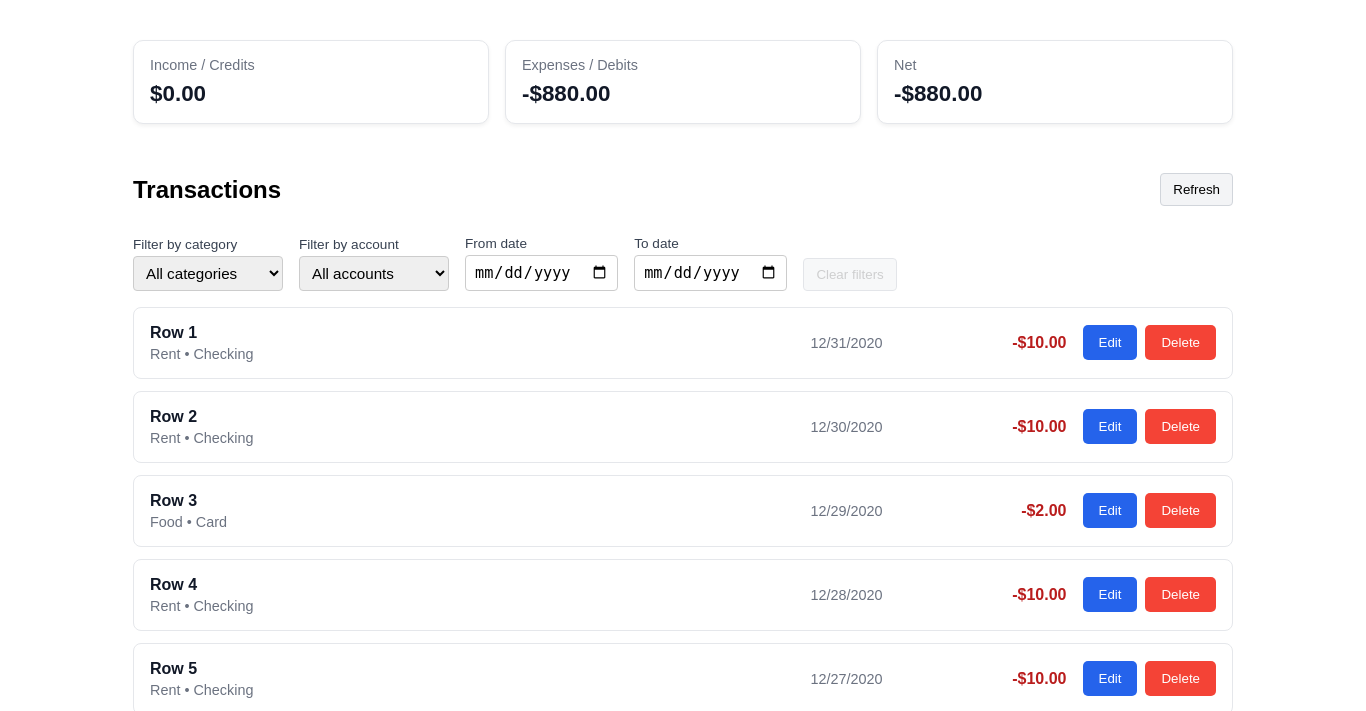
Test: filtering › combines a date range with the other filters, both ends included
Type "2020-12-22" into the date field labelled "From date". click: (542, 273)
box: [465, 255, 618, 291]
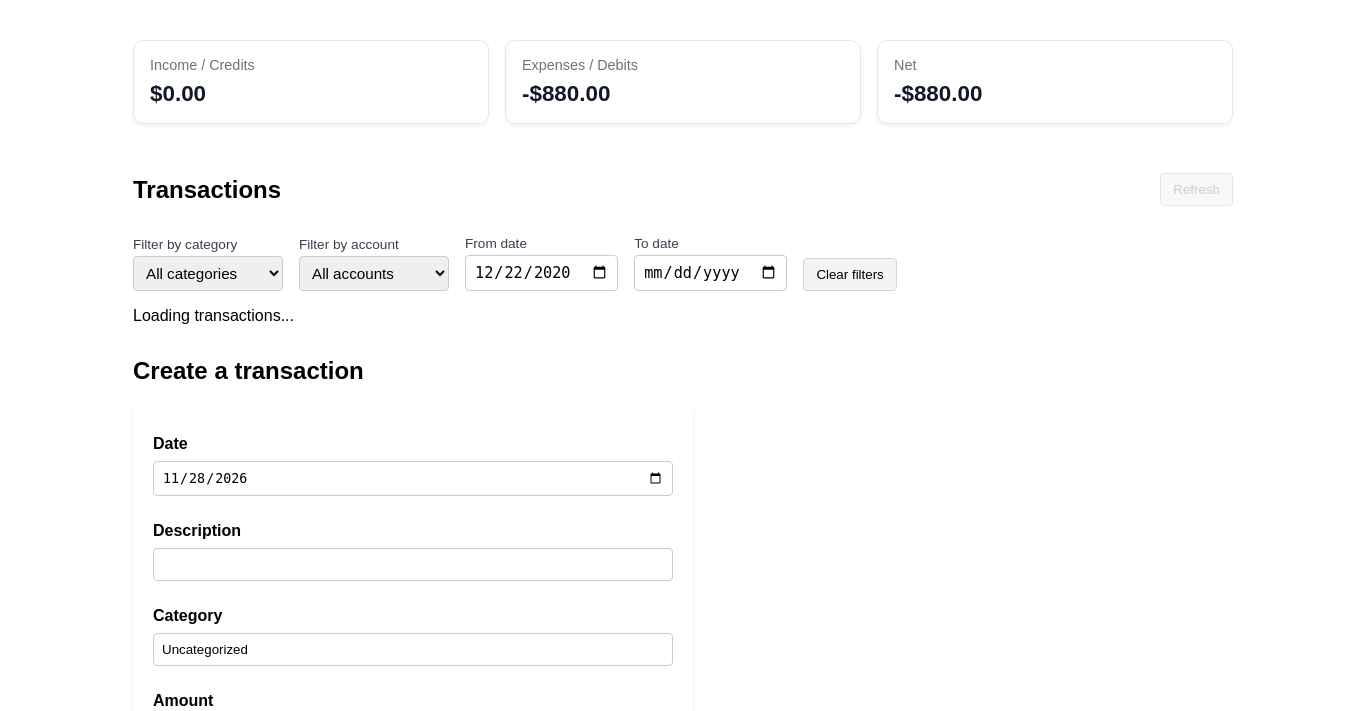
Type "2020-12-31" into the date field labelled "To date". click: (711, 273)
box: [634, 255, 787, 291]
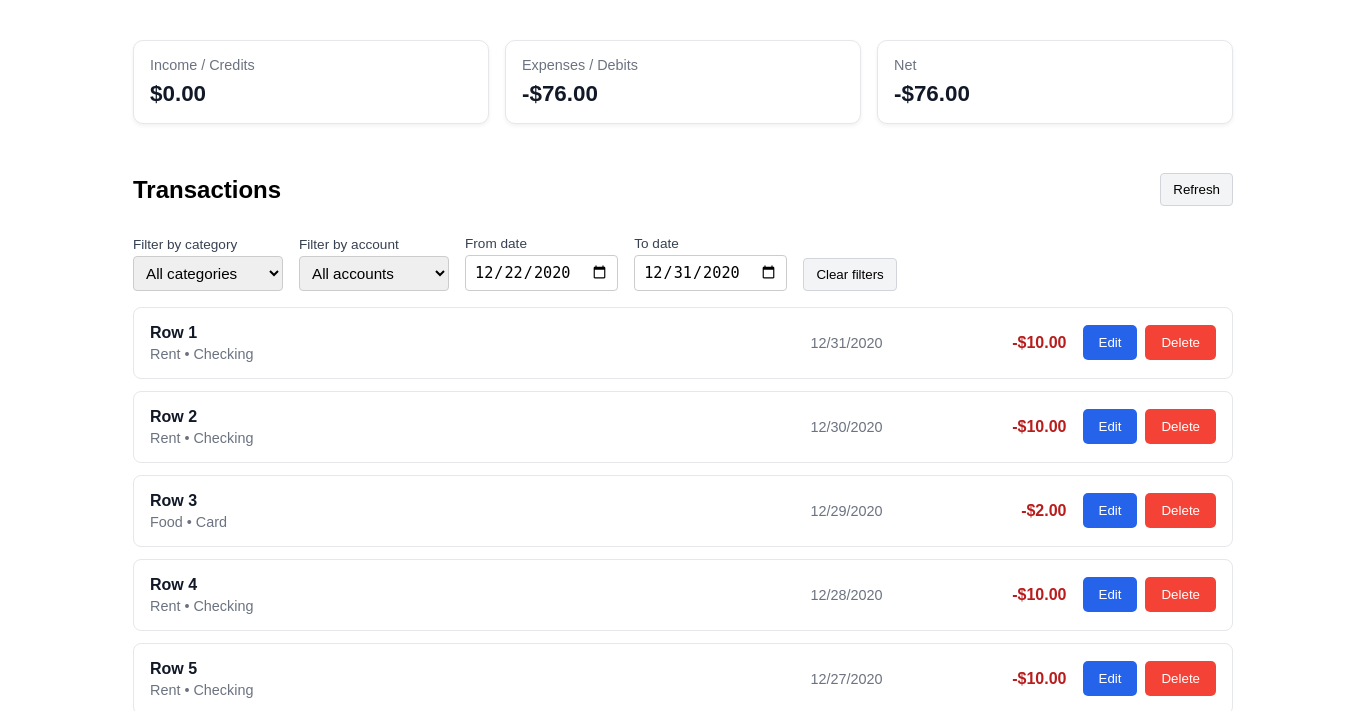
Select "Food" in the dropdown labelled "Filter by category". click: (208, 273)
box: [133, 256, 283, 291]
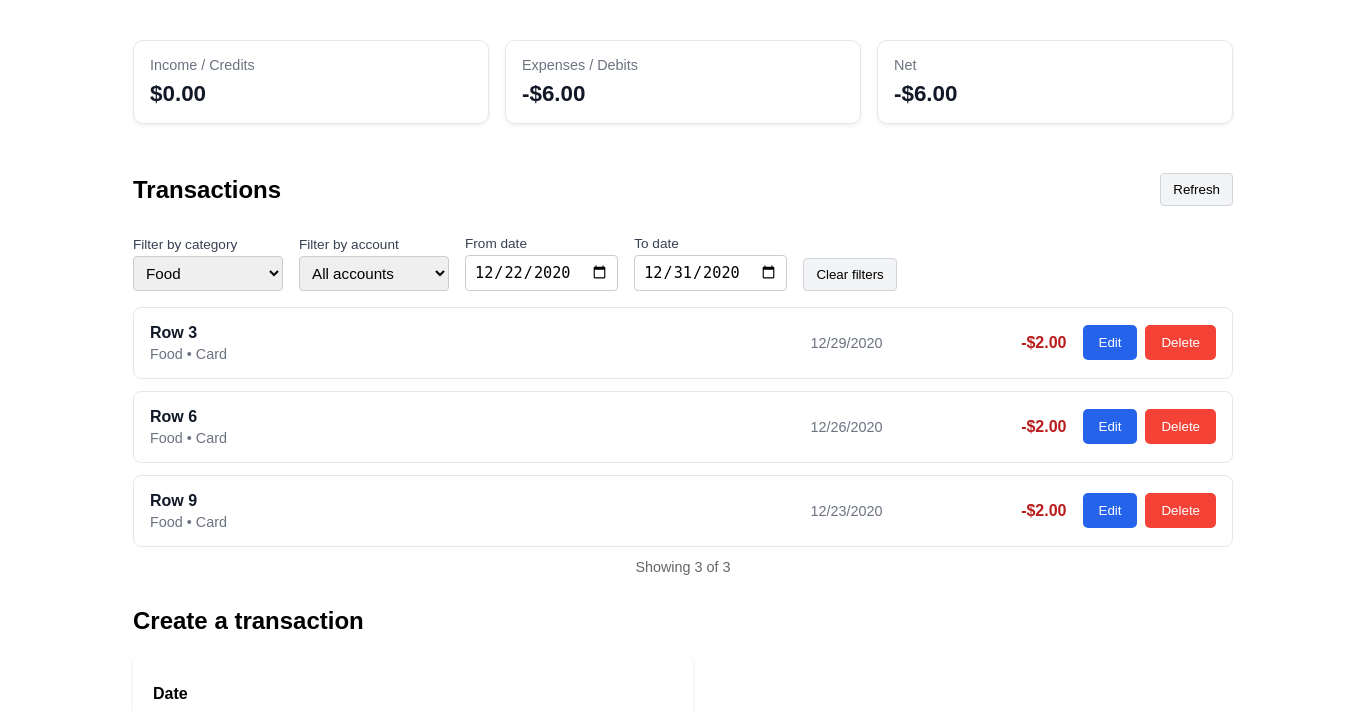
Result: the text "Showing 3 of 3" is shown at [635, 559, 731, 575]
